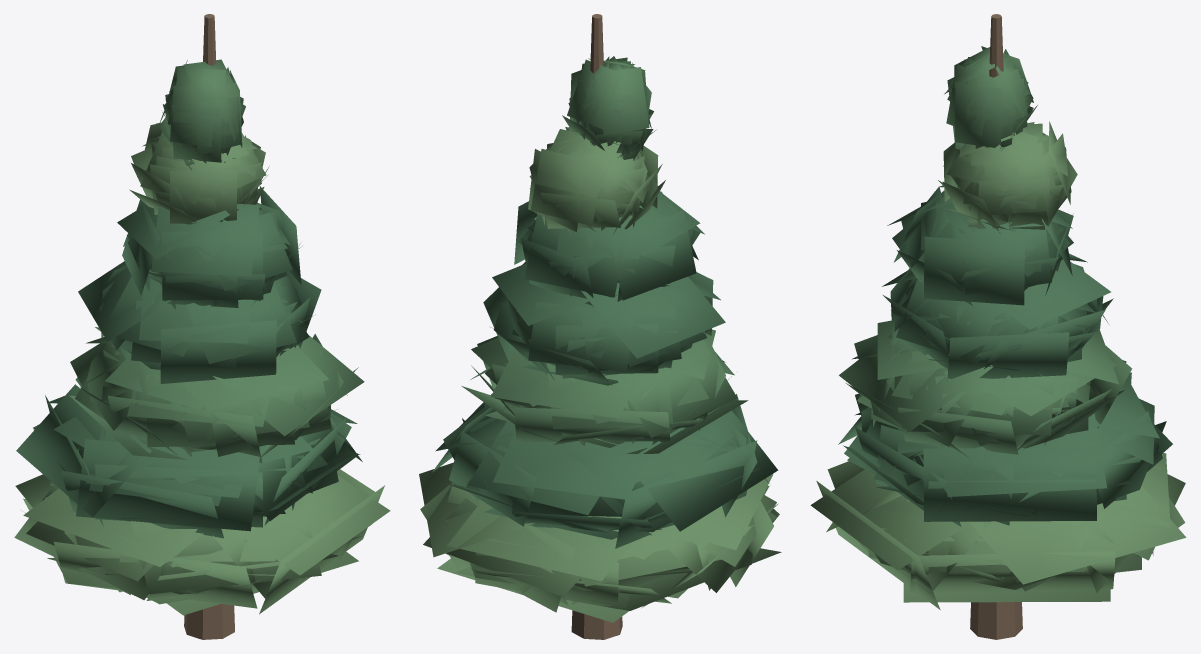
File: YoungSpruce.glb
3 views of the same model, side by side, from view 1: azimuth 30°, elevation 25°; view 2: azimuth 150°, elevation 25°; view 3: azimuth 270°, elevation 25° (orthographic).
Visible parts, largest first — view 1: Needle tier.014, Needle tier.015, Needle tier.016, Needle tier.017, Needle tier.018, Needle tier.019, Needle tier.020, Limb.002; view 2: Needle tier.015, Needle tier.014, Needle tier.016, Needle tier.017, Needle tier.018, Needle tier.019, Needle tier.020, Limb.002; view 3: Needle tier.014, Needle tier.015, Needle tier.016, Needle tier.017, Needle tier.018, Needle tier.019, Needle tier.020, Limb.002.
Boxes of the visible parts, x1=… form: Needle tier.014: x1=14, y1=454, x2=390, y2=615; Needle tier.015: x1=16, y1=384, x2=362, y2=538; Needle tier.016: x1=69, y1=334, x2=364, y2=463; Needle tier.017: x1=78, y1=261, x2=321, y2=383; Needle tier.018: x1=117, y1=186, x2=301, y2=309; Needle tier.019: x1=129, y1=123, x2=269, y2=224; Needle tier.020: x1=158, y1=59, x2=245, y2=170; Limb.002: x1=184, y1=14, x2=234, y2=639; Needle tier.015: x1=432, y1=393, x2=778, y2=548; Needle tier.014: x1=419, y1=462, x2=781, y2=622; Needle tier.016: x1=461, y1=329, x2=748, y2=453; Needle tier.017: x1=483, y1=262, x2=725, y2=385; Needle tier.018: x1=514, y1=191, x2=704, y2=305; Needle tier.019: x1=528, y1=127, x2=665, y2=235; Needle tier.020: x1=562, y1=56, x2=655, y2=160; Limb.002: x1=571, y1=14, x2=622, y2=639; Needle tier.014: x1=810, y1=453, x2=1186, y2=609; Needle tier.015: x1=838, y1=372, x2=1172, y2=526; Needle tier.016: x1=839, y1=320, x2=1132, y2=459; Needle tier.017: x1=882, y1=253, x2=1113, y2=380; Needle tier.018: x1=887, y1=185, x2=1073, y2=305; Needle tier.019: x1=938, y1=121, x2=1077, y2=233; Needle tier.020: x1=944, y1=46, x2=1037, y2=149; Limb.002: x1=970, y1=14, x2=1022, y2=639.
Bounding box in the file's own units: 2.82 × 4.99 × 2.78.
